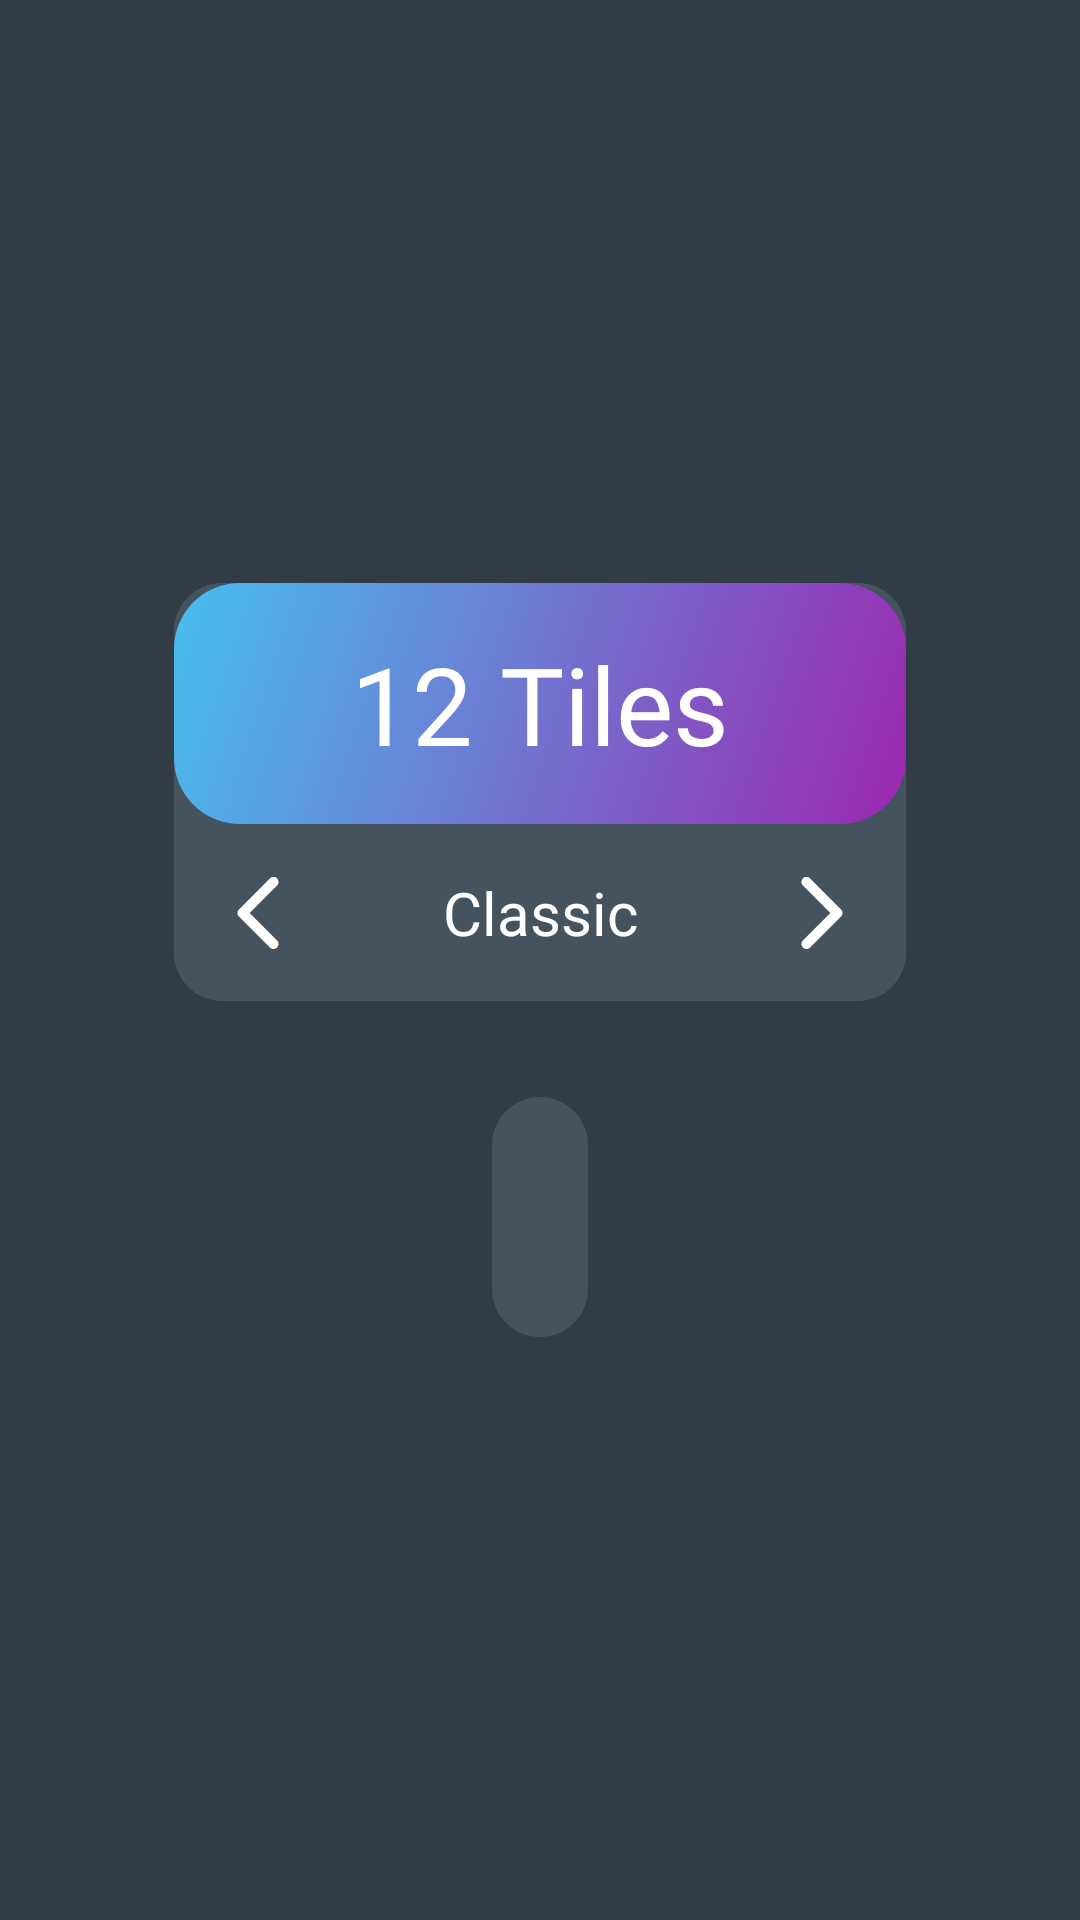

Named icons in this screenshot (1080 × 1920) and their bounding boxes, [x1,y1,x2,y2]:
arrow left: [237,877,279,949]
arrow right: [801,877,843,949]
